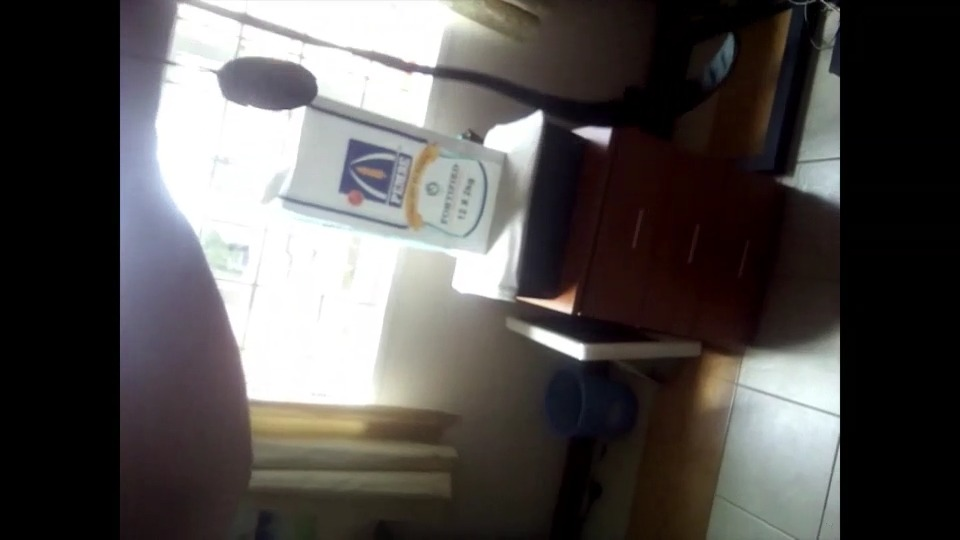wheat_flour_blue_label: (270, 96, 508, 250)
